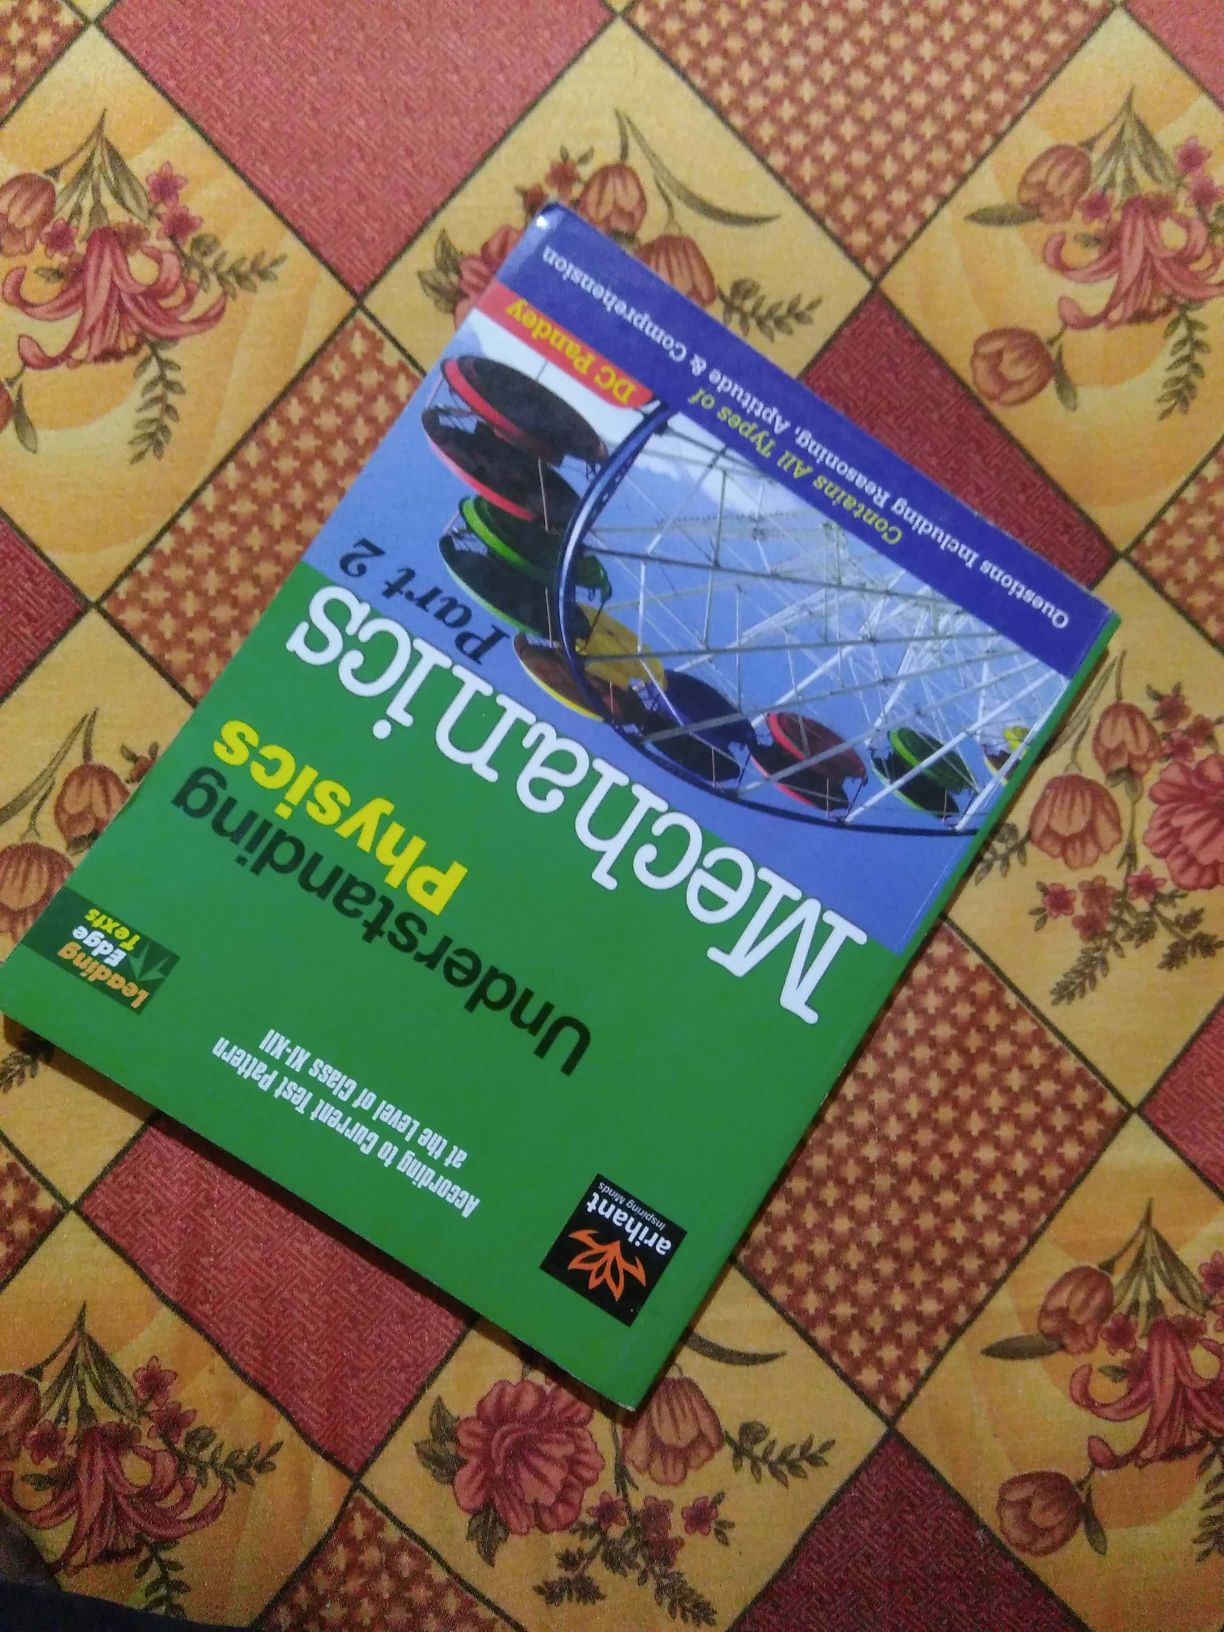mechanics: (122, 245, 1017, 1318)
